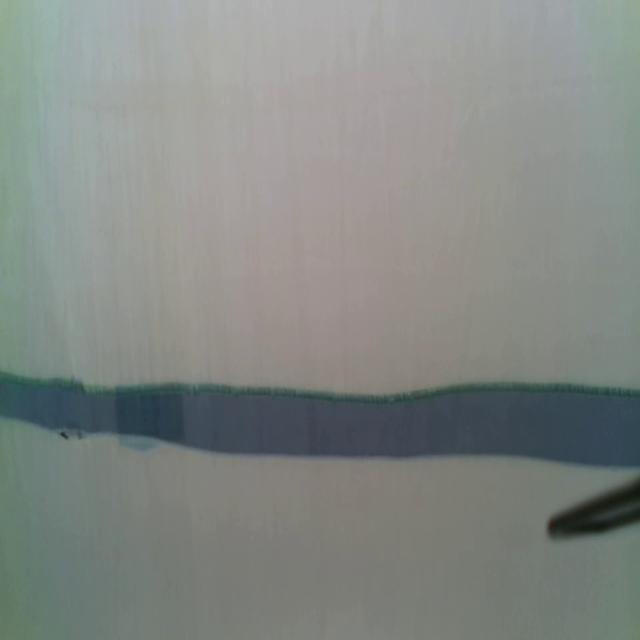color bleeding: (0, 367, 640, 470)
